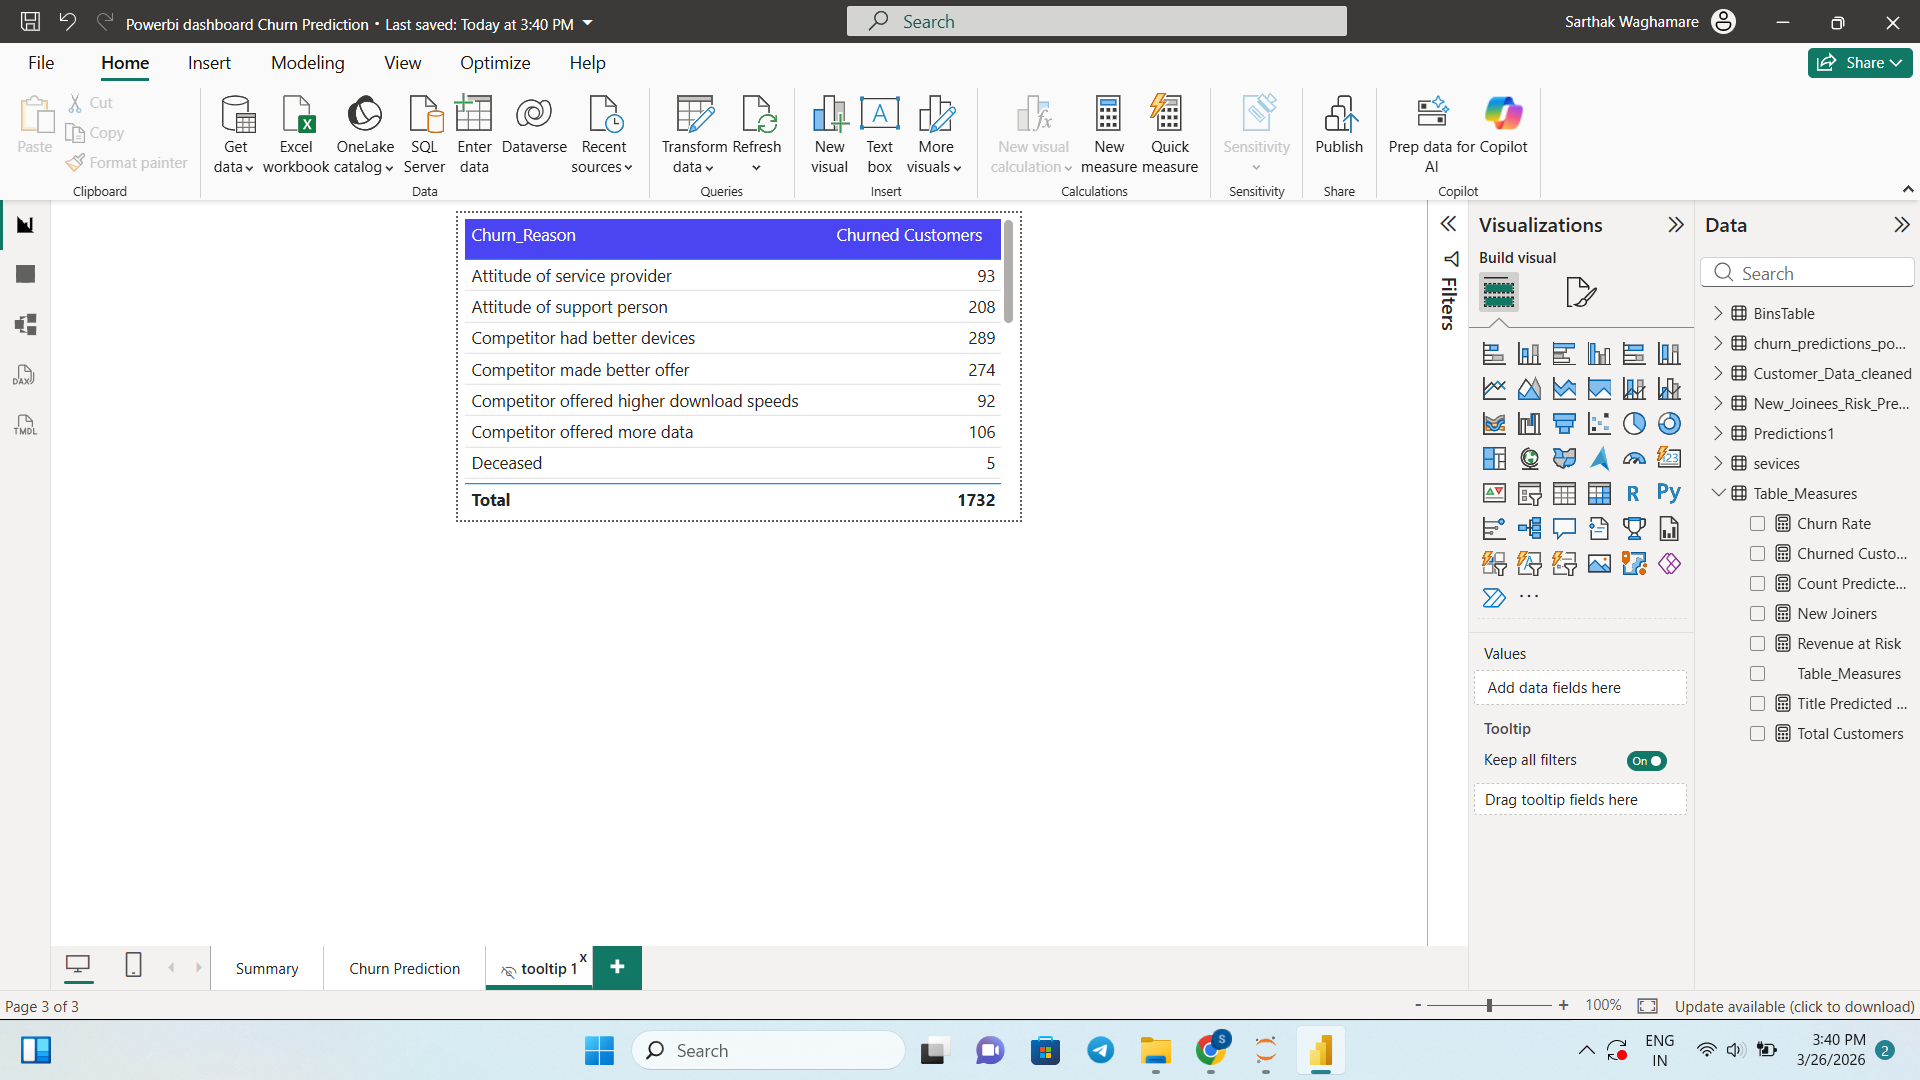

This screenshot's page, from the dashboard's own definition file:
{"tool":"powerbi","page":{"name":"tooltip 1","canvas":[450,246],"ordinal":2},"visuals":[{"type":"tableEx","fields":{"Values":["Customer_Data_cleaned.Churn_Reason","Table_Measures.Churned Customers"]},"box":[0,0,450,246.2],"z":0}]}

Visuals, with their boxes on the page's 450x246 design canvas (x1, y1, x2, y2). These are canvas units, not pixel positions in the 1920x1080 screenshot, which may show the page scaled, cropped or inside an application window:
tableEx - Customer_Data_cleaned.Churn_Reason x Table_Measures.Churned Customers: 0 0 450 246
